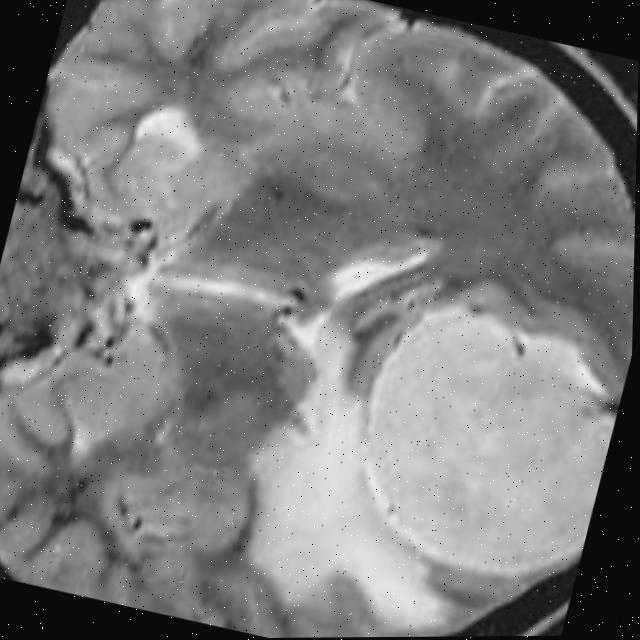Meningioma: (328, 290, 633, 597)
